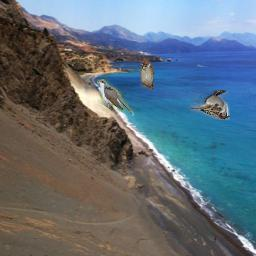Cuckoo: (97, 79, 135, 116)
Sparrow: (190, 90, 230, 120), (140, 59, 154, 90)
